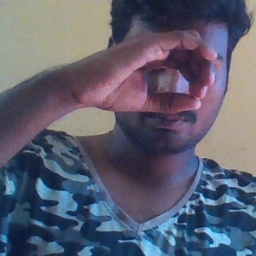O: (77, 22, 220, 118)
